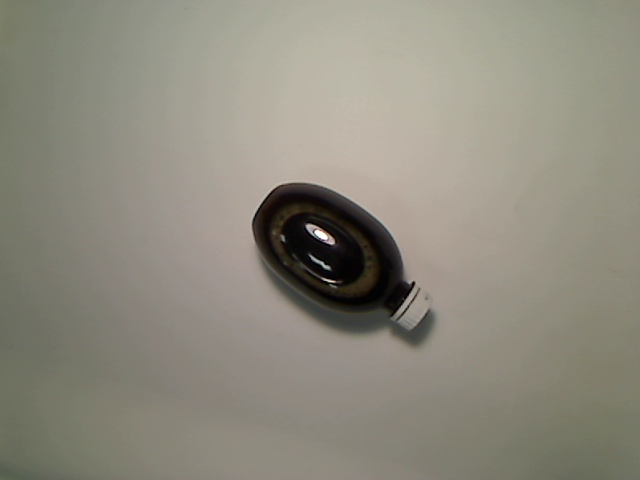plast_bottle: (249, 181, 433, 334)
